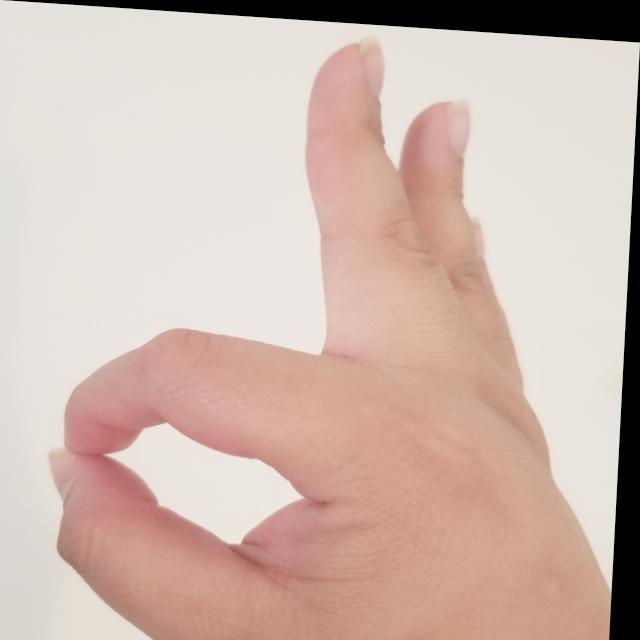F: (22, 2, 639, 640)
